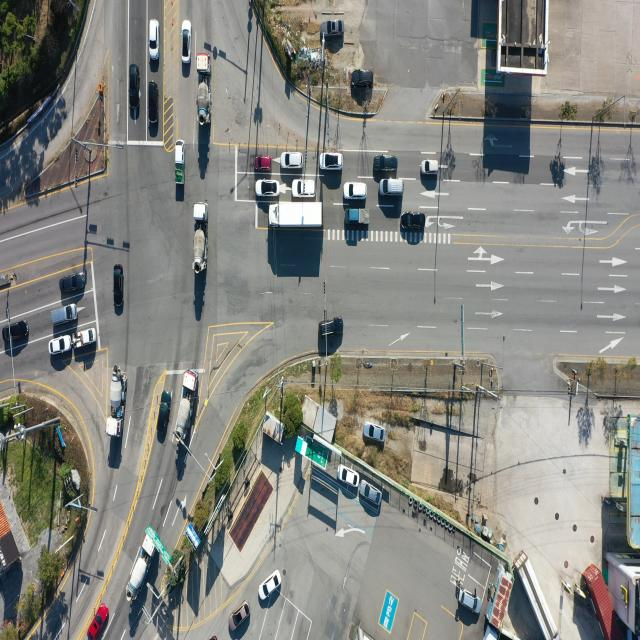car: (84, 602, 108, 640), (260, 570, 281, 601), (3, 323, 29, 347), (461, 586, 483, 613), (160, 390, 174, 432), (231, 603, 251, 632), (359, 482, 381, 508), (131, 64, 141, 120), (51, 303, 77, 324), (113, 264, 124, 312), (338, 464, 361, 486), (320, 316, 343, 338), (61, 274, 86, 294), (148, 80, 158, 128), (379, 177, 404, 196), (50, 336, 73, 356), (292, 179, 316, 198), (403, 212, 428, 230), (321, 151, 344, 170), (372, 154, 396, 172), (363, 423, 385, 442), (257, 179, 280, 197), (149, 19, 159, 60), (282, 151, 304, 169), (344, 181, 366, 199), (352, 69, 374, 87), (182, 21, 190, 66), (324, 20, 344, 37), (255, 157, 274, 172), (421, 160, 438, 176)
medium_truck: (520, 552, 562, 638), (127, 526, 159, 600), (179, 370, 201, 444), (268, 202, 322, 230), (111, 372, 127, 440), (198, 52, 213, 123), (193, 202, 207, 274)
small_truck: (71, 329, 98, 350), (175, 139, 185, 184), (347, 208, 371, 225)
